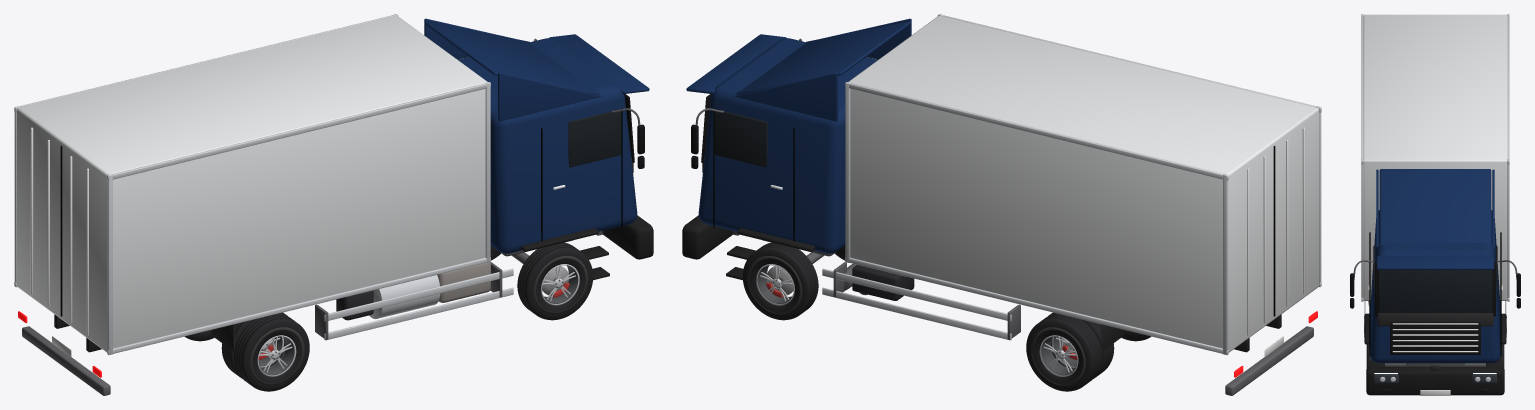
The model's file is lkw.glb.
3 renders of one model, left to right at view 1: azimuth 30°, elevation 25°; view 2: azimuth 150°, elevation 25°; view 3: azimuth 270°, elevation 25°, orthographic. The views are drawn at different scales.
Visible parts, largest first — view 1: aufbau, kabine, bt:rad_hr, windleitblech, bt:rad_vr, windleitblech_seite_-1, kabine_seitenglas_-1, koffer_leiste_-1_3.78, koffer_leiste_-1_1.20, sonnenblende, bt:tank, seitenschutz_-1_0.62 (+11 smaller); view 2: aufbau, kabine, bt:rad_hl, windleitblech, bt:rad_vl, windleitblech_seite_1, kabine_seitenglas_1, koffer_leiste_1_3.78, koffer_leiste_1_1.20, sonnenblende, seitenschutz_1_0.62, seitenschutz_1_0.90 (+9 smaller); view 3: aufbau, windleitblech, kabine_glas, kabine, stossfaenger, grill, sonnenblende, bt:armaturenbrett, koffer_leiste_1_3.78, koffer_leiste_-1_3.78, koffer_pfosten_1_-1.17, koffer_pfosten_-1_-1.17 (+18 smaller).
Boxes of the visible parts, box(x1,y1,x2,y2) form: aufbau: box(16, 16, 487, 352); kabine: box(458, 38, 637, 253); bt:rad_hr: box(221, 312, 309, 391); windleitblech: box(424, 21, 599, 94); bt:rad_vr: box(517, 242, 593, 320); windleitblech_seite_-1: box(498, 72, 602, 121); kabine_seitenglas_-1: box(568, 109, 621, 167); koffer_leiste_-1_3.78: box(107, 83, 490, 180); koffer_leiste_-1_1.20: box(107, 257, 490, 354); sonnenblende: box(549, 34, 649, 93); bt:tank: box(369, 275, 440, 319); seitenschutz_-1_0.62: box(324, 287, 513, 340); aufbau: box(848, 16, 1319, 352); kabine: box(698, 38, 877, 253); bt:rad_hl: box(1026, 312, 1114, 391); windleitblech: box(736, 21, 911, 94); bt:rad_vl: box(742, 242, 818, 320); windleitblech_seite_1: box(733, 72, 837, 121); kabine_seitenglas_1: box(714, 109, 767, 167); koffer_leiste_1_3.78: box(845, 83, 1228, 180); koffer_leiste_1_1.20: box(845, 257, 1228, 354); sonnenblende: box(686, 34, 786, 93); seitenschutz_1_0.62: box(822, 287, 1011, 340); seitenschutz_1_0.90: box(822, 268, 1011, 321); aufbau: box(1363, 14, 1507, 300); windleitblech: box(1379, 169, 1491, 245); kabine_glas: box(1378, 270, 1492, 313); kabine: box(1370, 210, 1500, 363); stossfaenger: box(1366, 366, 1504, 395); grill: box(1390, 322, 1480, 354); sonnenblende: box(1376, 255, 1494, 269); bt:armaturenbrett: box(1377, 313, 1493, 326); koffer_leiste_1_3.78: box(1507, 15, 1509, 164); koffer_leiste_-1_3.78: box(1361, 15, 1363, 164); koffer_pfosten_1_-1.17: box(1507, 159, 1509, 297); koffer_pfosten_-1_-1.17: box(1361, 159, 1363, 297).
Size of the model in its own units: 8.6 by 3.82 by 2.91.
